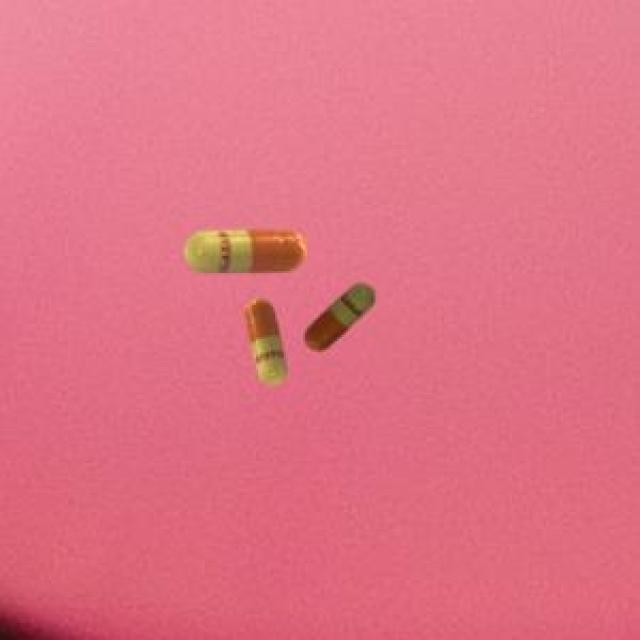Alaxan: (177, 221, 312, 278), (303, 278, 381, 361), (240, 295, 294, 392)
